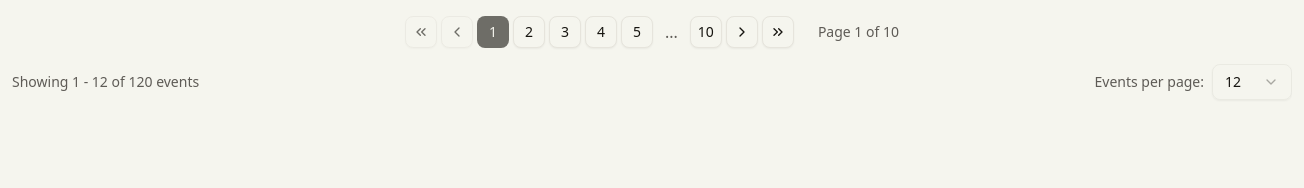
it: EventsPagination › Page Size Selector › should offer page size options: 12, 24, 48
The image size is (1304, 188).
Click the dropdown named "select page size". click: (1252, 82)
box: [1212,64,1292,100]
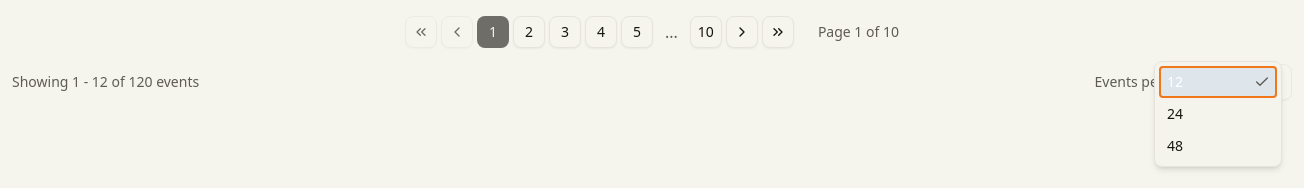
expect the option "12" is shown: met, box [1159,66,1277,98]
expect the option "24" is shown: met, box [1167,104,1183,123]
expect the option "48" is shown: met, box [1167,136,1183,155]
